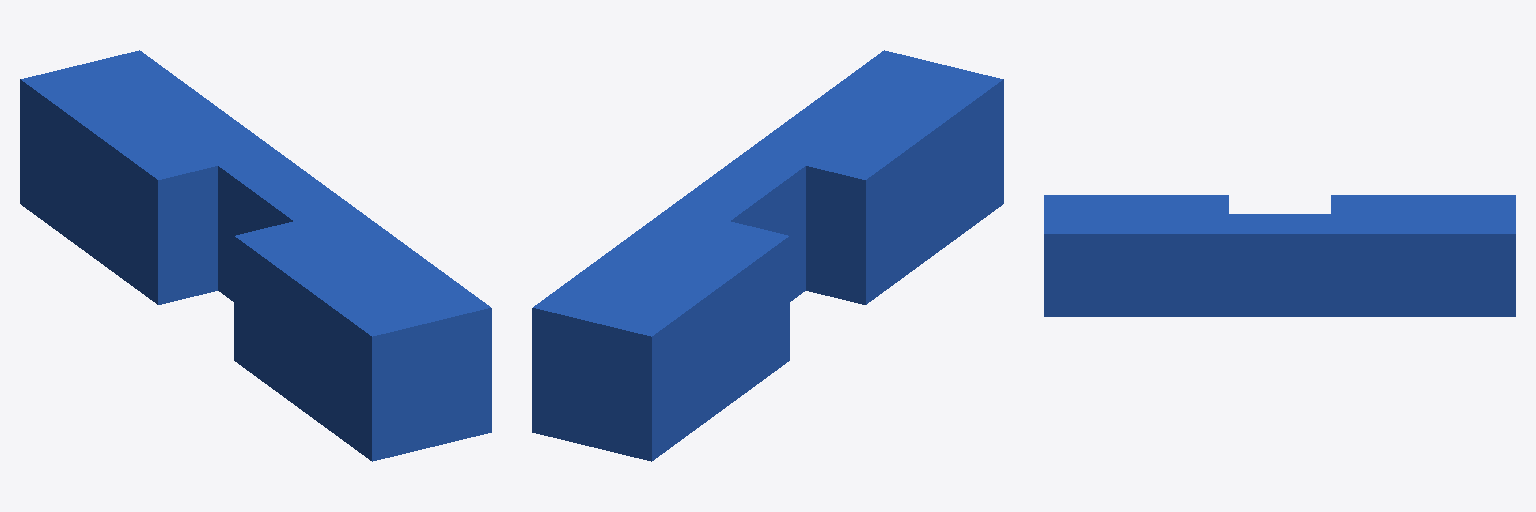
URDF robot description (obj_9):
<robot name="obj_9" version="1.0">
  <link name="obj_9">
    <collision name="medium-piece-5-collision.001">
      <origin rpy="0.00000 0.00000 0.00000" xyz="0.00000 0.00000 0.00000"/>
      <geometry>
        <mesh filename="../meshes/obj/medium-piece-5-collision.001.obj" scale="1.00000 1.00000 1.00000"/>
      </geometry>
    </collision>
    <collision name="medium-piece-5-collision.002">
      <origin rpy="0.00000 0.00000 0.00000" xyz="0.00000 0.00000 0.00000"/>
      <geometry>
        <mesh filename="../meshes/obj/medium-piece-5-collision.002.obj" scale="1.00000 1.00000 1.00000"/>
      </geometry>
    </collision>
    <collision name="medium-piece-5-collision.003">
      <origin rpy="0.00000 0.00000 0.00000" xyz="0.00000 0.00000 0.00000"/>
      <geometry>
        <mesh filename="../meshes/obj/medium-piece-5-collision.003.obj" scale="1.00000 1.00000 1.00000"/>
      </geometry>
    </collision>
    <inertial>
      <inertia ixx="0.00002" ixy="-0.00000" ixz="0.00000" iyy="0.00000" iyz="-0.00000" izz="0.00002"/>
      <origin rpy="0.00000 0.00000 0.00000" xyz="-0.20846 0.18837 0.23130"/>
      <mass value="0.00400"/>
    </inertial>
    <visual name="medium-piece-5">
      <material name="turnarrow"/>
      <origin rpy="-1.57080 0.00000 1.57080" xyz="-0.21622 0.18837 0.23130"/>
      <geometry>
        <mesh filename="../meshes/obj/medium-piece.005.obj" scale="0.00500 0.00500 0.00500"/>
      </geometry>
    </visual>
  </link>
  <material name="turnarrow">
    <color rgba="0.23137 0.44706 0.80000 1.00000"/>
  </material>
</robot>

--- Facts derived from the render (not from the file) ---
3 views of the same robot in one strip: view 1: azimuth 30°, elevation 25°; view 2: azimuth 150°, elevation 25°; view 3: azimuth 270°, elevation 25° (orthographic).
Model obj_9 with 1 links and 0 joints (none), rooted at obj_9, posed every joint at zero.
Links seen in each view (by area): view 1: obj_9; view 2: obj_9; view 3: obj_9.
Link boxes in pixels (x1,y1,x2,y2): obj_9: (20,50,491,461); obj_9: (532,50,1003,461); obj_9: (1044,195,1515,316).
Size in the robot's own frame: 0.05 by 0.255 by 0.05 metres.
1 mesh visuals loaded from 1 distinct referenced files (1 OBJ).